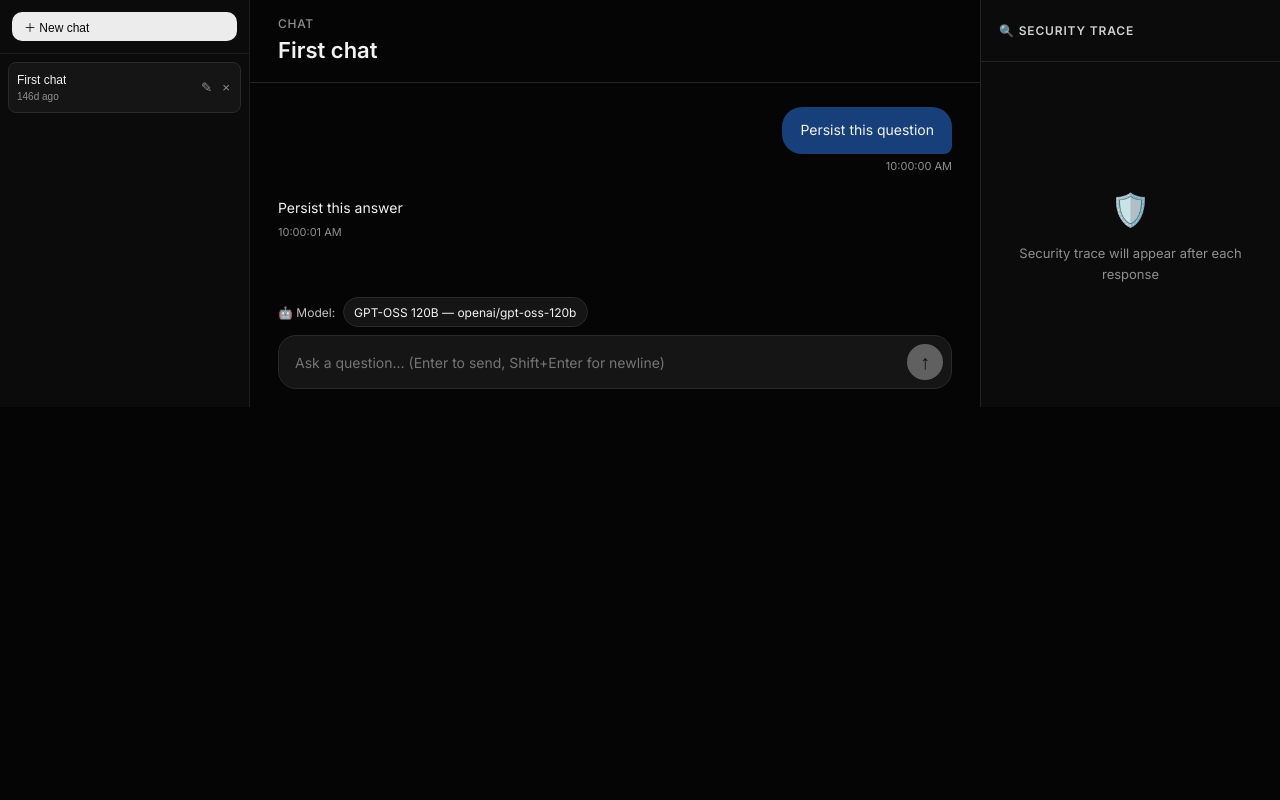
it: persistent conversations › finishes the UI when the stream ends without waiting for history refresh
This screenshot has width=1280, height=800.
Expected: the text "Persist this answer" is shown, [278, 197, 403, 220]
Type "Question to answer" into the text box with id "chat-input" at (596, 363), box [295, 345, 897, 380]
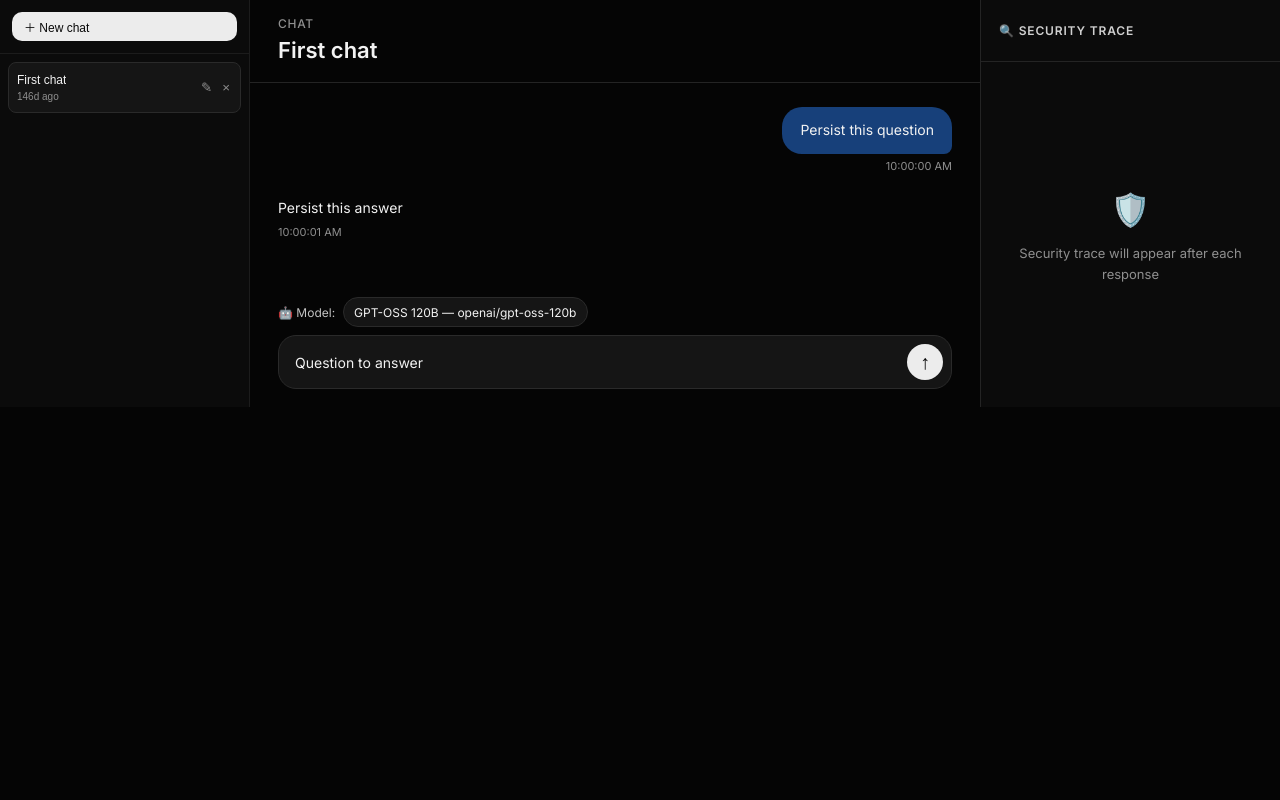
Click the button named "Send" at (925, 362), box [907, 344, 943, 380]
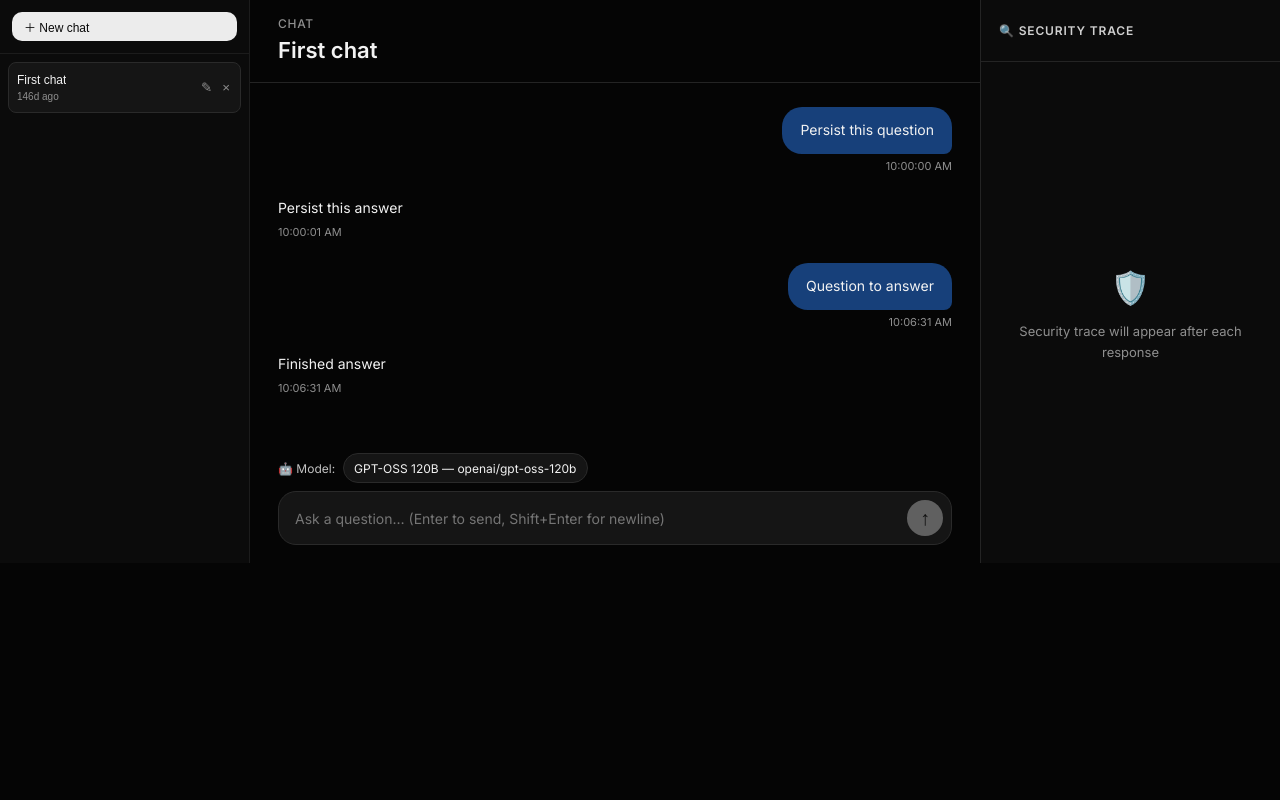
Expected: the text "Finished answer" is shown, [278, 353, 386, 376]
Type "I can continue now" into the text box with id "chat-input" at (596, 519), box [295, 501, 897, 536]
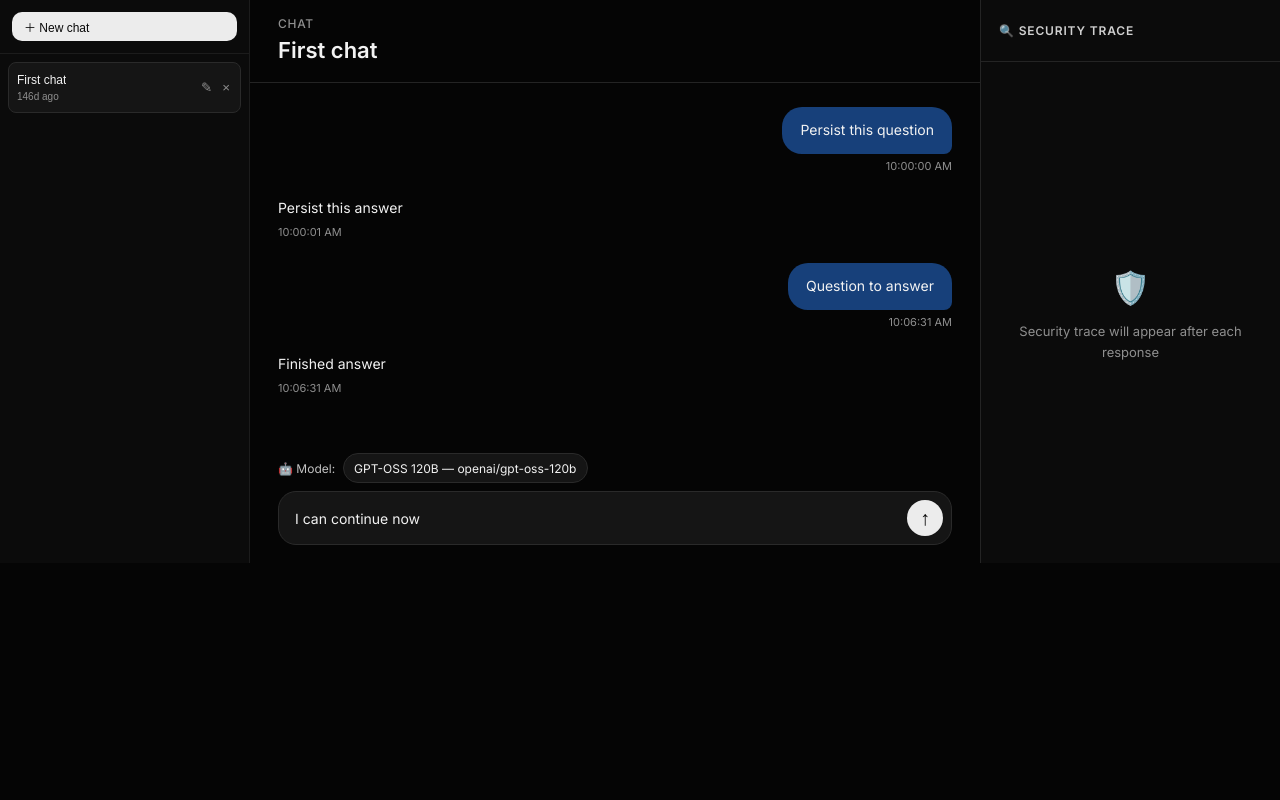
Expected: the button named "Send" is enabled, [907, 500, 943, 536]
